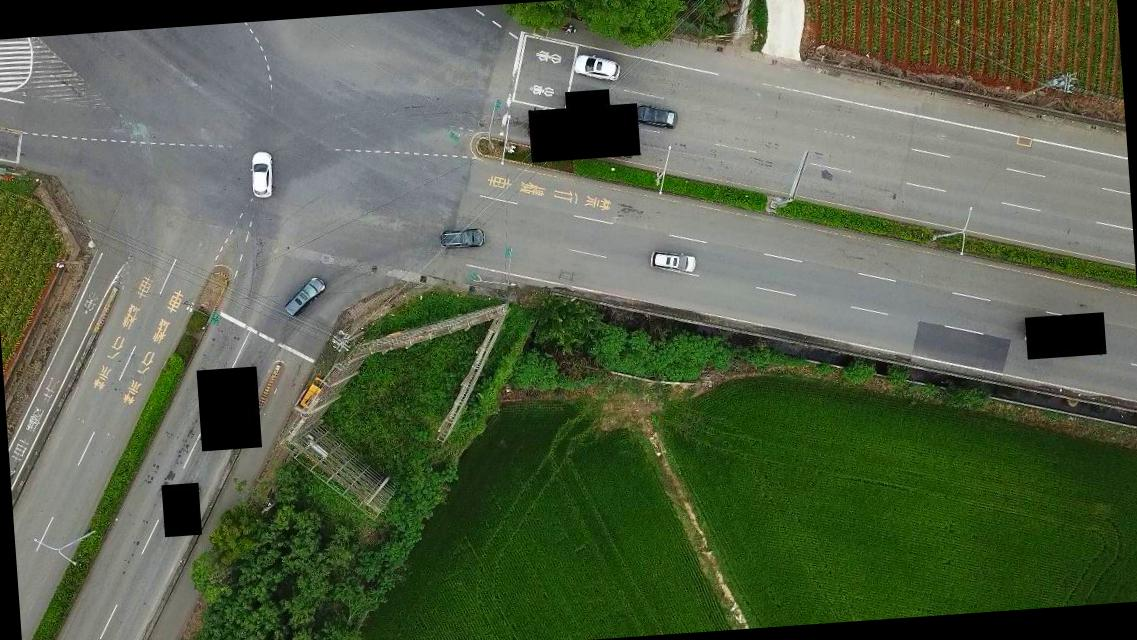vehicle: (279, 276, 327, 317), (572, 53, 622, 86), (246, 148, 276, 199), (631, 102, 678, 132), (648, 248, 696, 274), (437, 228, 486, 250)
